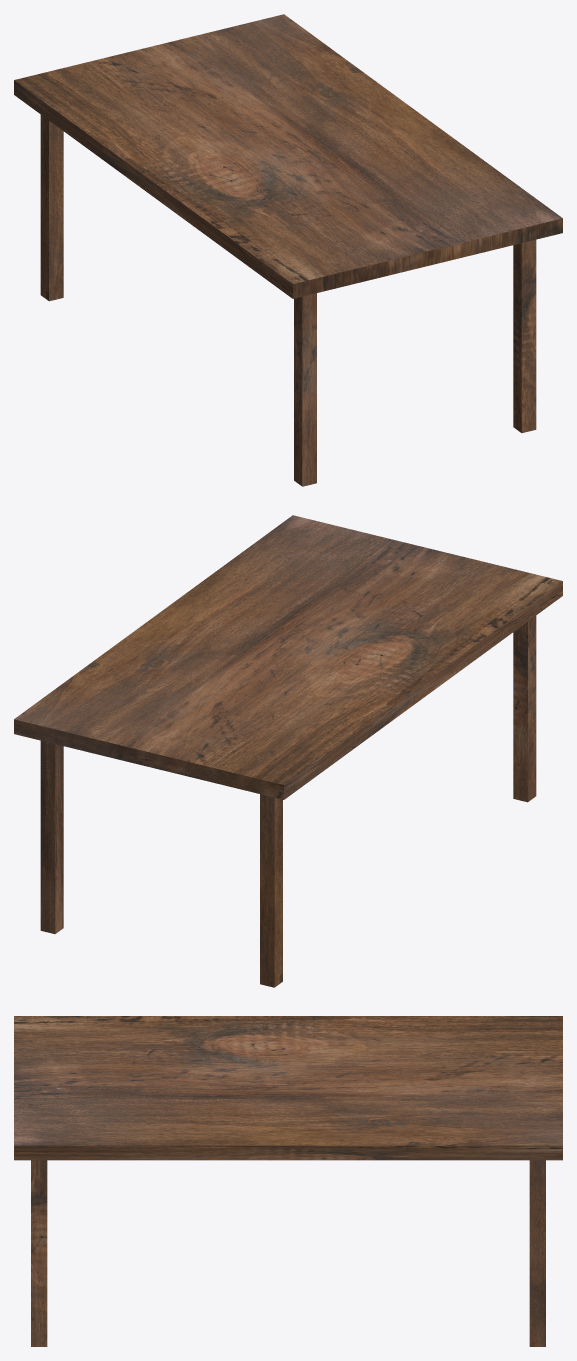
The model's file is mesa_grande.fbx.
3 views of the same model, one above another, from view 1: azimuth 30°, elevation 25°; view 2: azimuth 150°, elevation 25°; view 3: azimuth 270°, elevation 25° (orthographic).
Parts seen in each view (by area): view 1: mesa grandew; view 2: mesa grandew; view 3: mesa grandew.
Boxes of the visible parts, <box> form: mesa grandew: <box>14,14,562,486</box>; mesa grandew: <box>14,515,562,987</box>; mesa grandew: <box>14,1016,562,1346</box>.
Size of the model in its own units: 272 by 205 by 487.
Materials: 1 (1 with a texture image).
